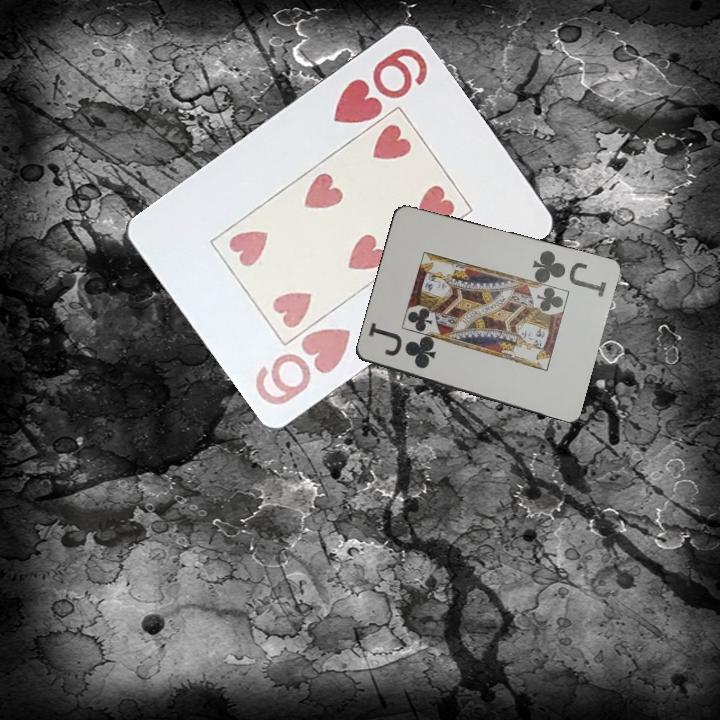6h: (251, 324, 354, 410), (329, 44, 431, 128)
Jc: (528, 247, 609, 300), (364, 323, 439, 372)
